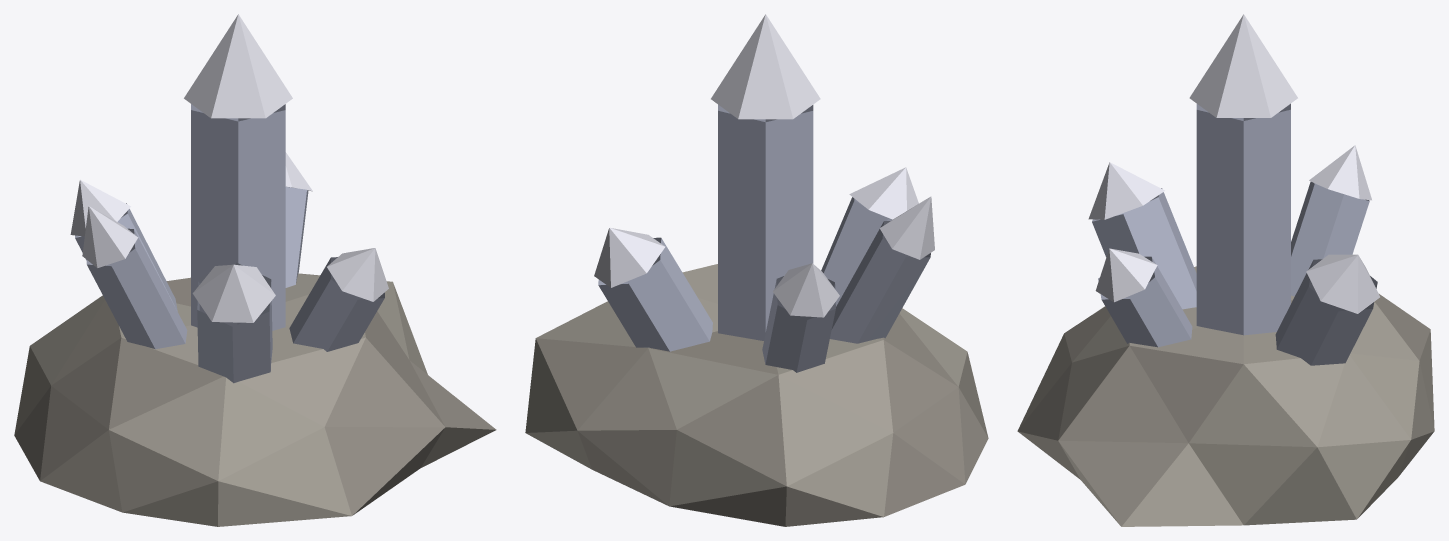
The model's file is quartz_a.glb.
The picture shows the model from 3 angles, left to right: view 1: azimuth 30°, elevation 25°; view 2: azimuth 150°, elevation 25°; view 3: azimuth 270°, elevation 25°; orthographic projection.
Visible parts, largest first — view 1: quartz_a; view 2: quartz_a; view 3: quartz_a.
Part boxes in pixels (x1,y1,x2,y2): quartz_a: (14, 14, 496, 526); quartz_a: (525, 14, 988, 526); quartz_a: (1017, 14, 1434, 526).
Bounding box in the file's own units: 0.9182 × 0.93 × 0.8427.
